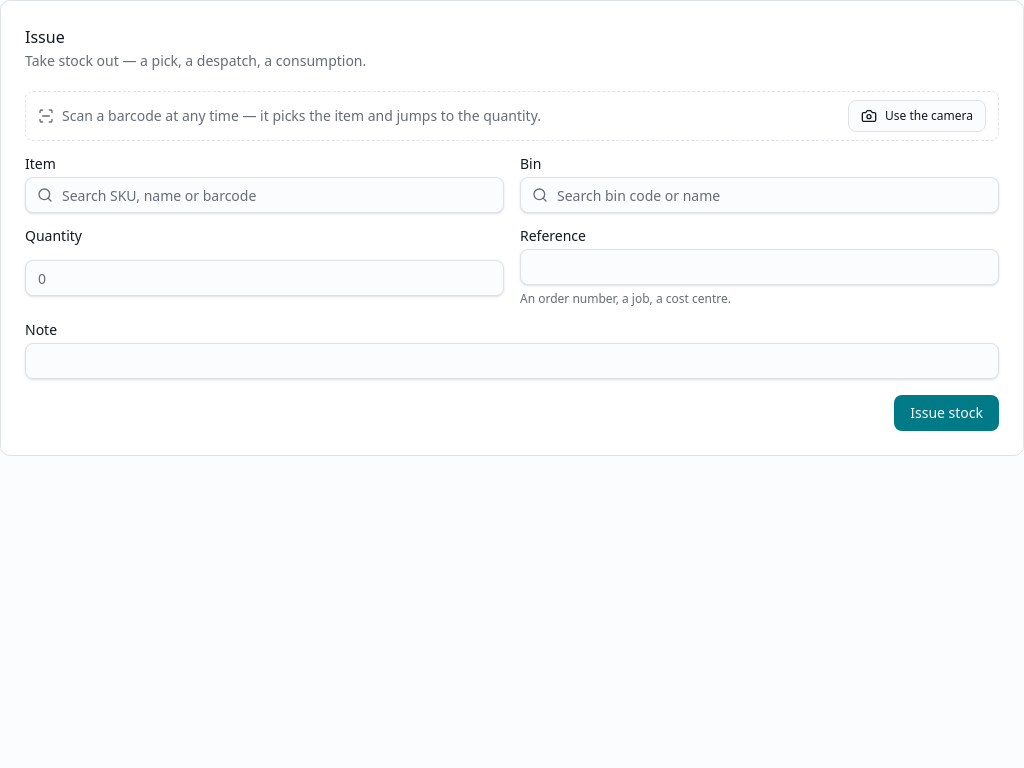
the issue form › warns that the bin would go negative, and still lets the movement through
The image size is (1024, 768).
Click the dropdown labelled "Item". click: (264,195)
box: 25,177 -> 504,213
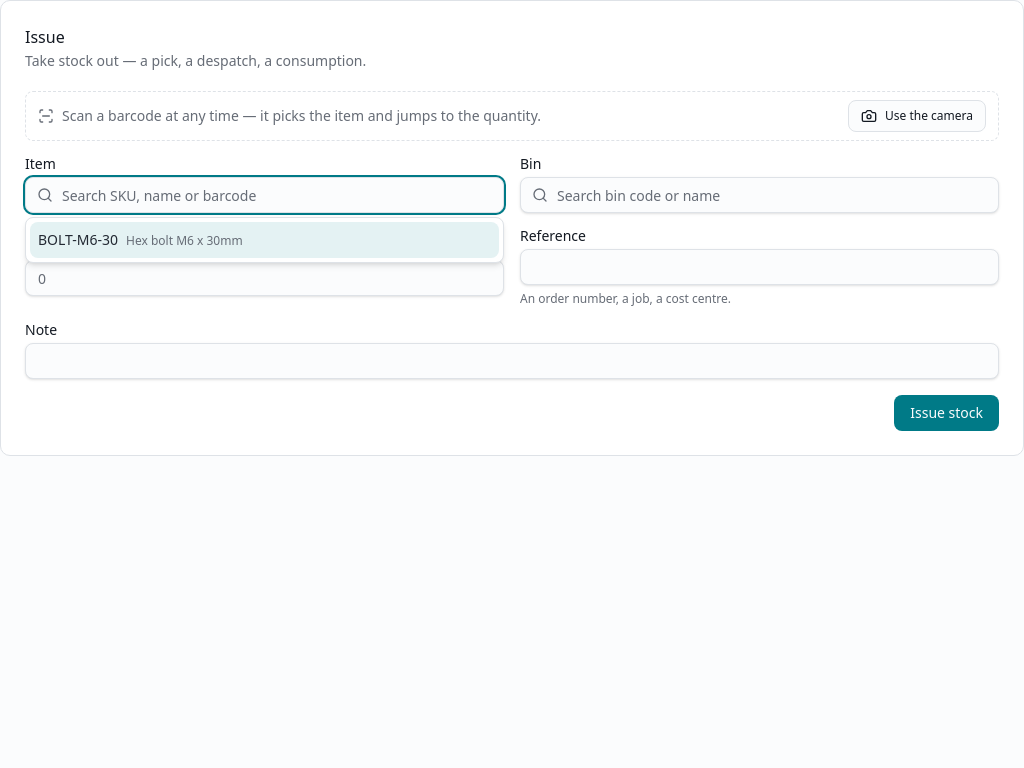
Click the option "BOLT-M6-30 Hex bolt M6 x 30mm". click: (78,240)
box: 30,222 -> 499,258
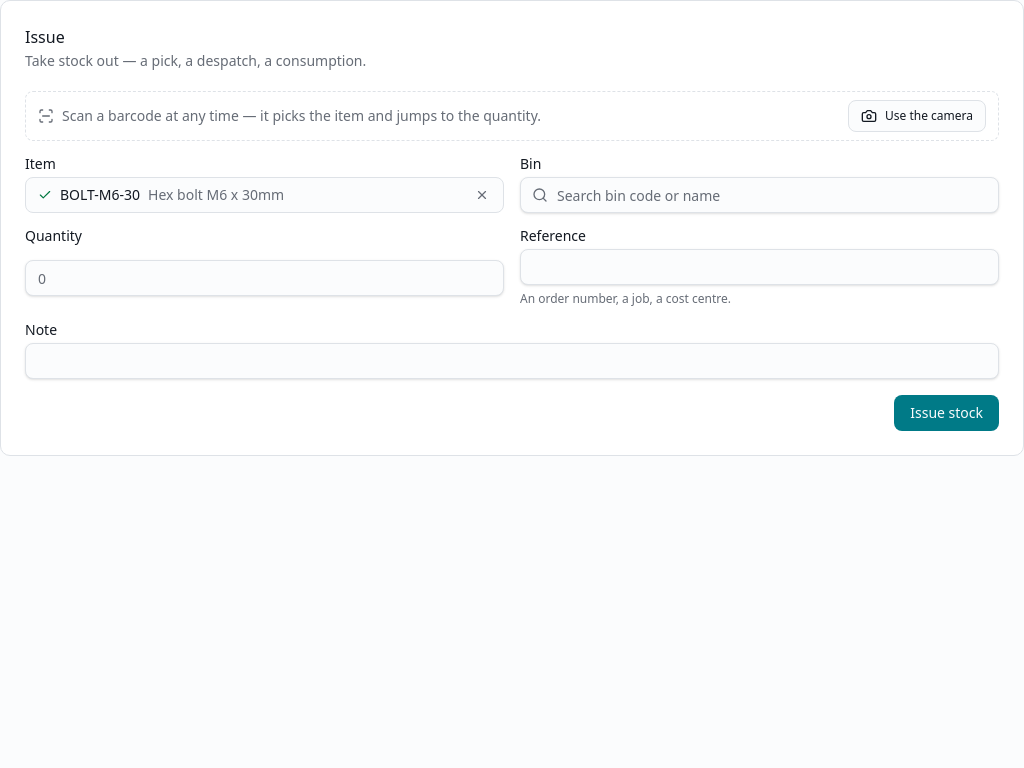
Click the dropdown labelled "Bin". click: (760,195)
box: 520,177 -> 999,213
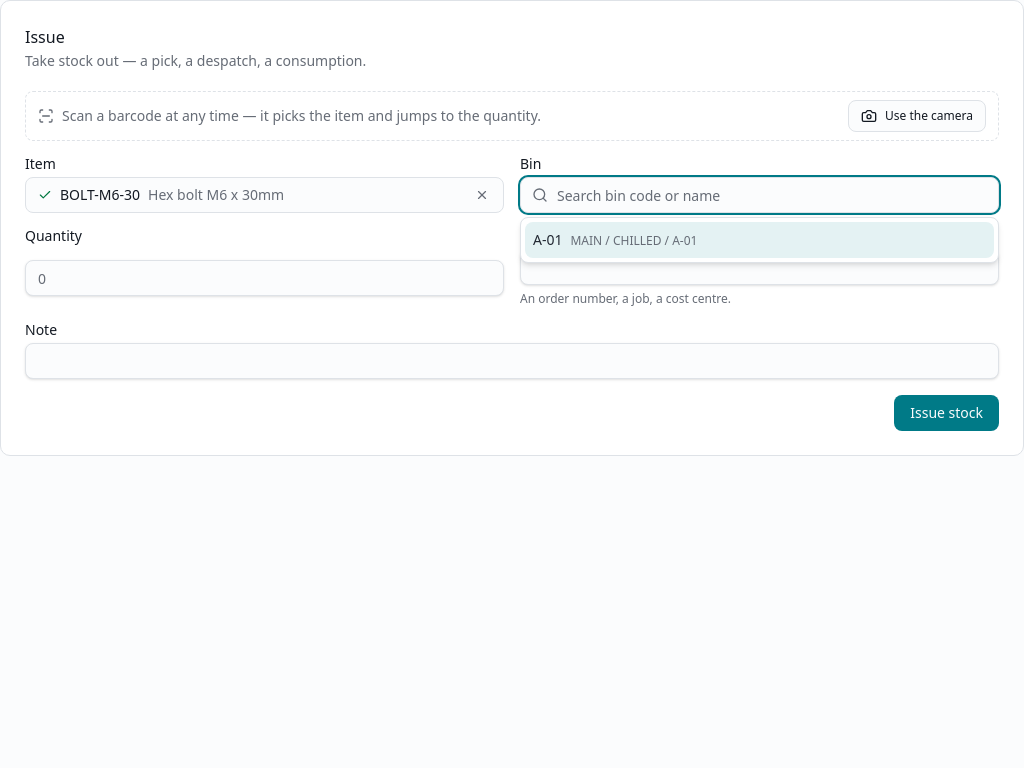
Click the option "A-01 MAIN / CHILLED / A-01". click: (634,240)
box: 525,222 -> 994,258
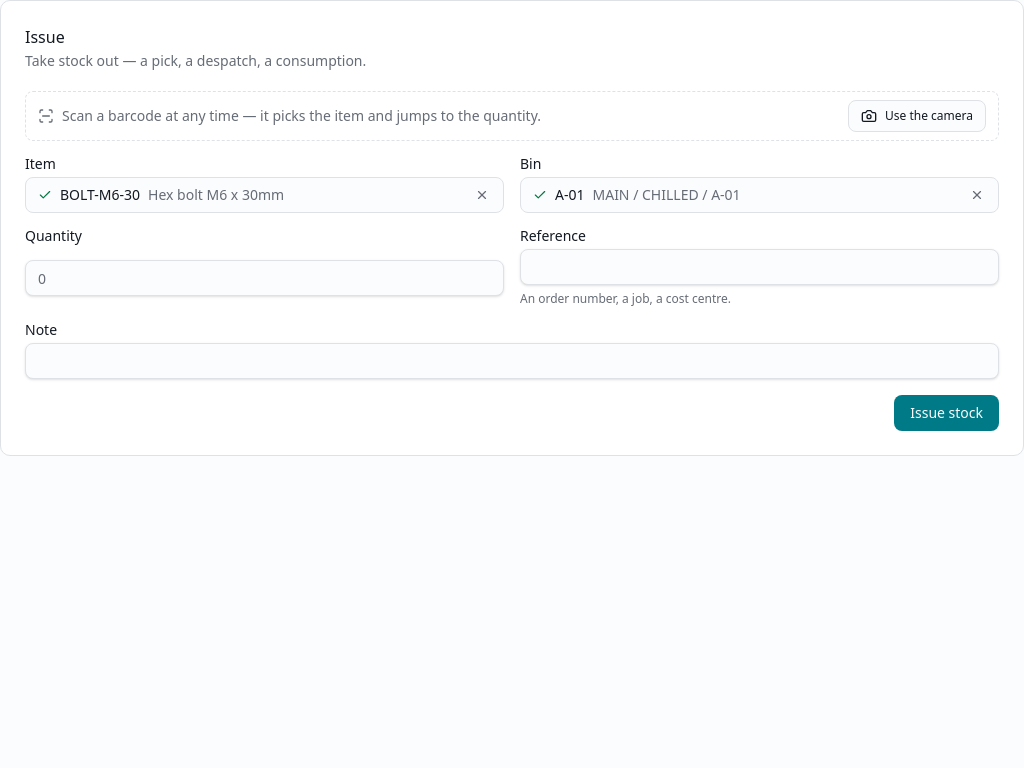
Type "30" into the number field labelled "Quantity". click: (264,278)
box: 25,260 -> 504,296
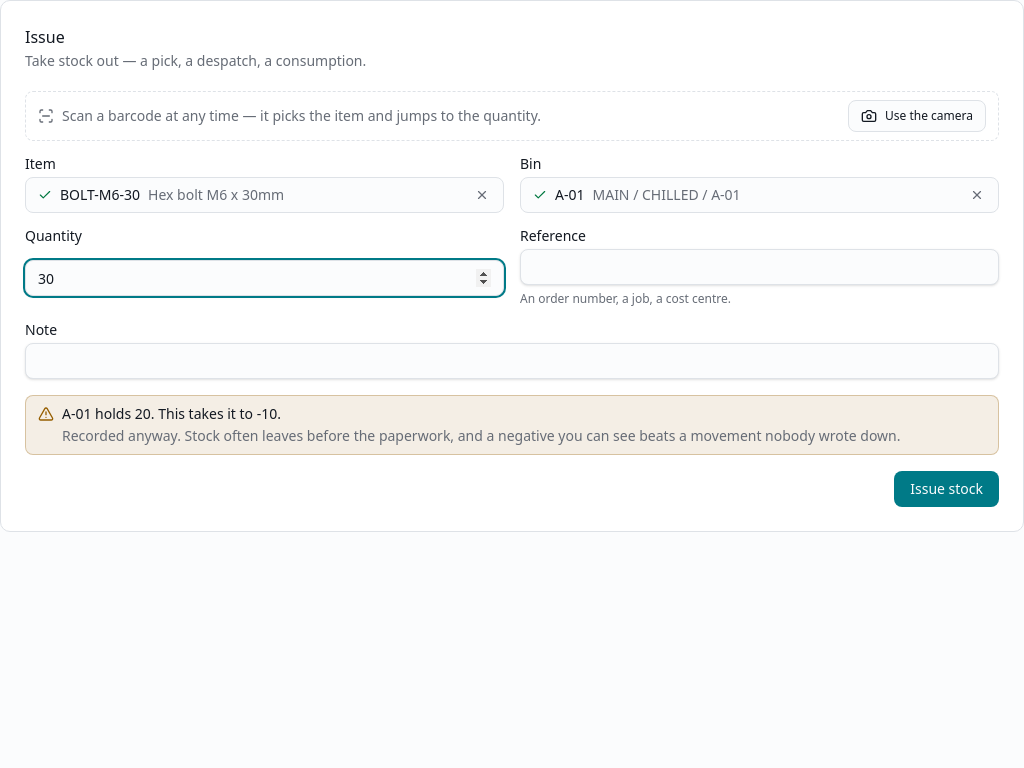
Expected: the button "Issue stock" is enabled, 894,471 -> 999,507
Expected: the text "A-01 holds 20. This takes it to -10." is shown, 62,404 -> 281,423
